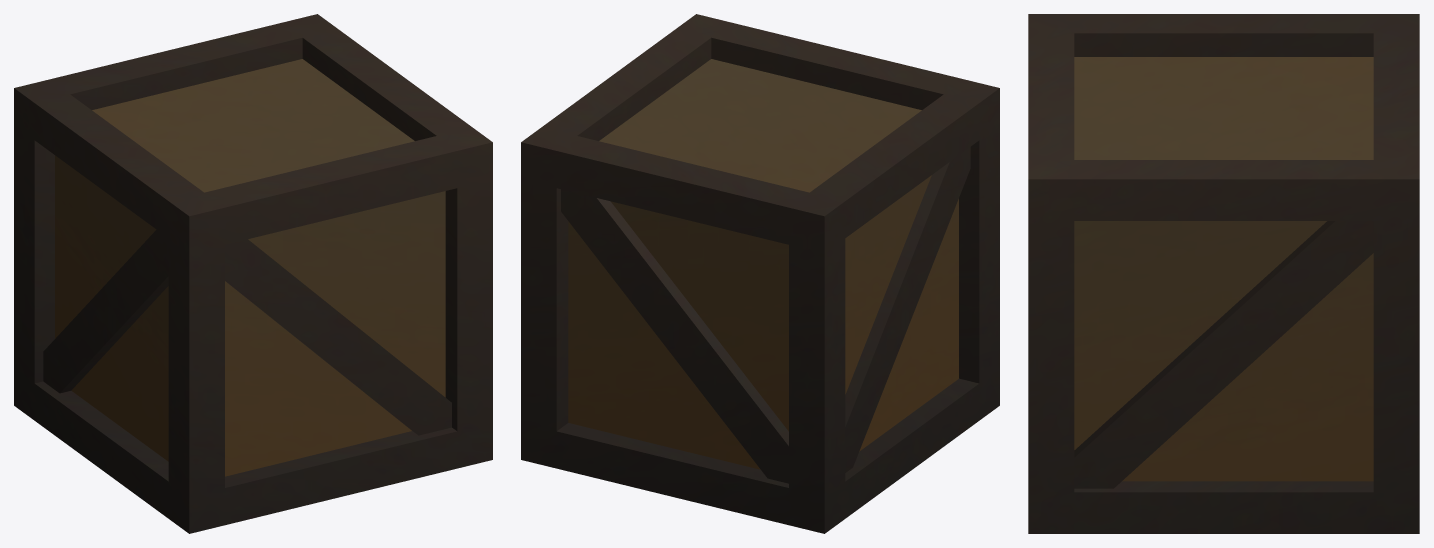
The picture shows the model from 3 angles, left to right: view 1: azimuth 30°, elevation 25°; view 2: azimuth 150°, elevation 25°; view 3: azimuth 270°, elevation 25°; orthographic projection. The views are drawn at different scales.
Visible parts, largest first — view 1: Crate_01; view 2: Crate_01; view 3: Crate_01.
Part boxes in pixels (<box>): Crate_01: <box>14,14,492,533</box>; Crate_01: <box>521,14,999,533</box>; Crate_01: <box>1028,14,1419,533</box>.
Size of the model in its own units: 35.91 by 35.91 by 35.91.
